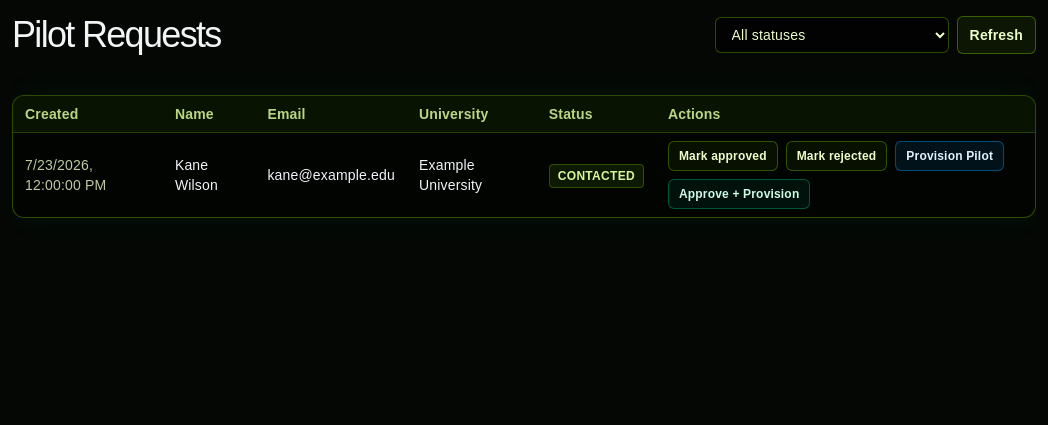
Test: PilotRequestsAdminPage › approves and provisions a contacted request, then refreshes the list
The width and height of the screenshot is (1048, 425).
What coordinates should you click on to do the following:
click the button "Approve + Provision"
I would click on:
 (739, 194)
Its box is x1=668 y1=179 x2=810 y2=209.
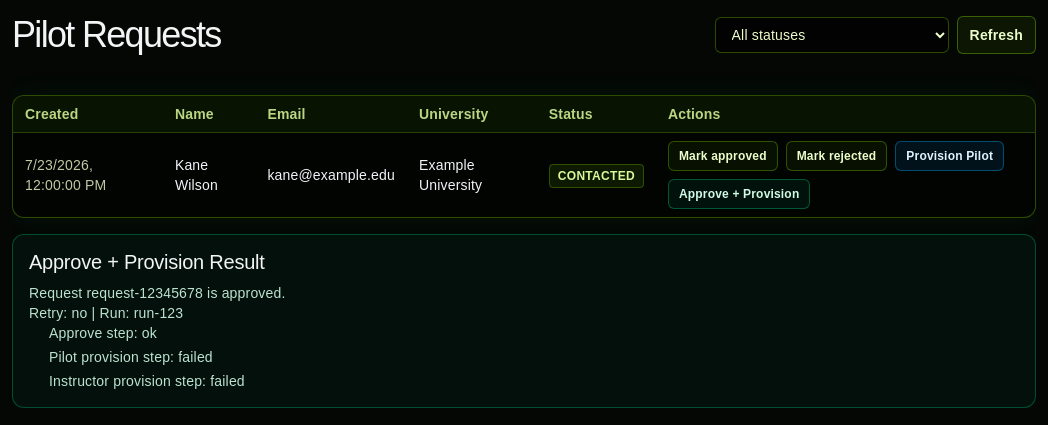
Now the heading "Approve + Provision Result" is shown, box x1=29 y1=251 x2=265 y2=273
